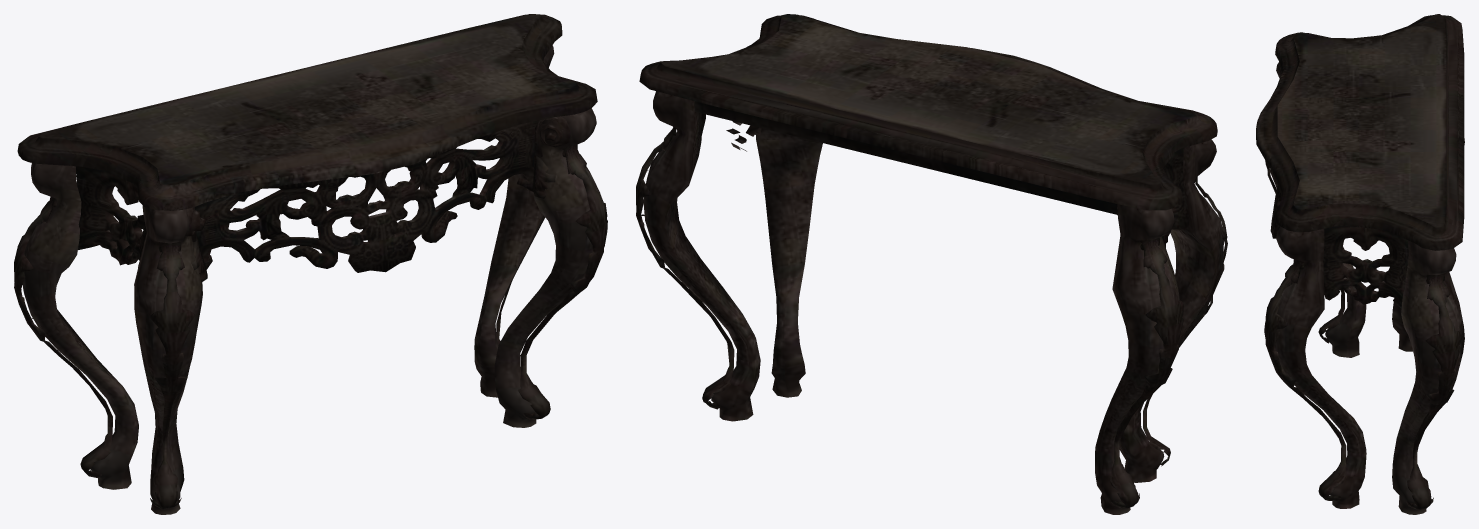
The model's file is ClassicConsole_01.glb.
3 views of the same model, side by side, from view 1: azimuth 30°, elevation 25°; view 2: azimuth 150°, elevation 25°; view 3: azimuth 270°, elevation 25° (orthographic). The views are drawn at different scales.
Parts seen in each view (by area): view 1: ClassicConsole_01_0; view 2: ClassicConsole_01_0; view 3: ClassicConsole_01_0.
Part boxes in pixels (left/top/right/bottom): ClassicConsole_01_0: left=14, top=14, right=607, bottom=514; ClassicConsole_01_0: left=636, top=14, right=1227, bottom=514; ClassicConsole_01_0: left=1256, top=14, right=1464, bottom=514.
Size of the model in its own units: 1.54 by 0.9491 by 0.5859.
Materials: 1 (1 with a texture image).
